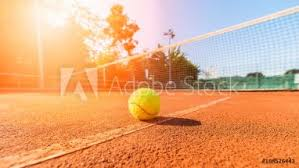tennis_ball: (127, 87, 161, 121)
